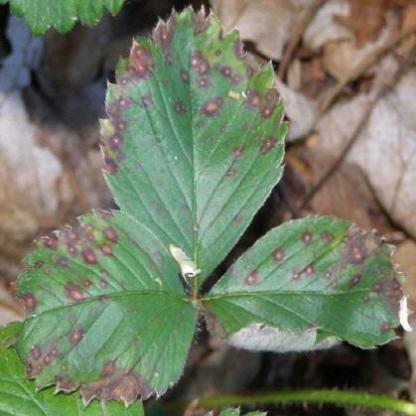Strawberry_Leaf_Spot: (97, 3, 289, 293), (0, 207, 197, 410), (198, 214, 408, 353)
